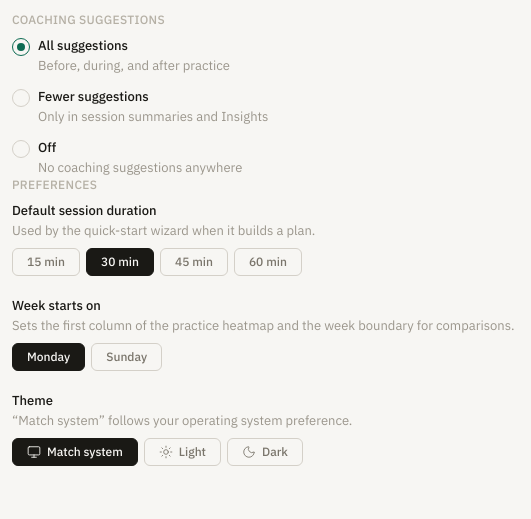
ProfileSettings › keeps the banner up when the failure resync also fails
The width and height of the screenshot is (531, 519).
Step 1. Click the radio button labelled "Off No coaching suggestions anywhere" → (127, 157), box left=12, top=139, right=242, bottom=176
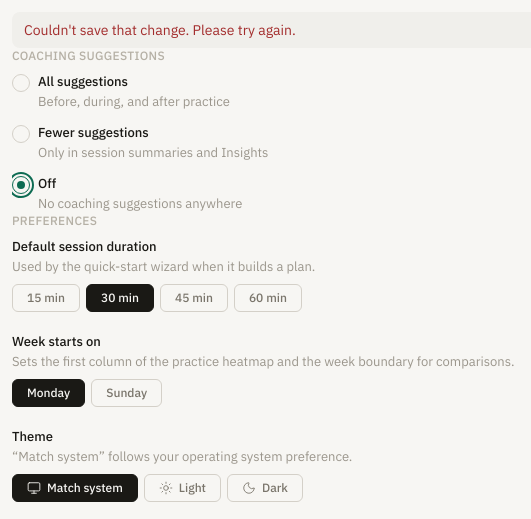
expect the message shows "save": met, box left=24, top=21, right=296, bottom=39
